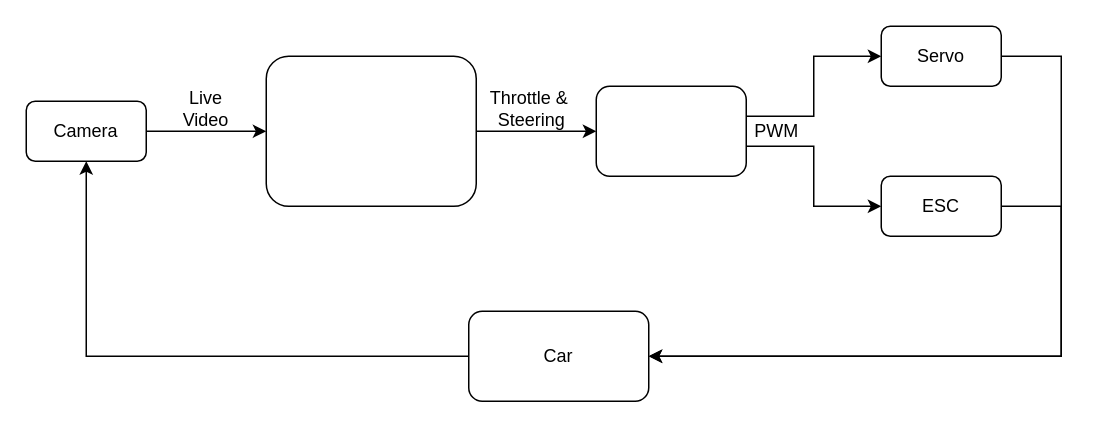
Some shapes in this 1100 by 428 pixel diagram are drawn without their labels. The shapes that lost their labels are listed below. From the top down, each one's box as (x1, y1, x2, y2) in pixels, then its label:
(265, 55, 476, 206): Nvidia Jetson Nano
(595, 85, 746, 176): Arduino Nano
